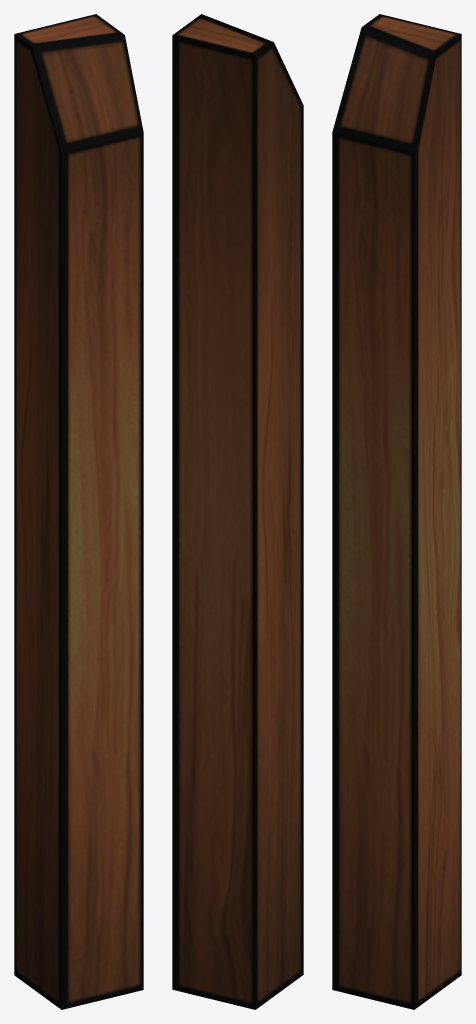
Rendered from Viga_01_Broken.FBX.
3 renders of one model, left to right at view 1: azimuth 30°, elevation 25°; view 2: azimuth 150°, elevation 25°; view 3: azimuth 330°, elevation 25°, orthographic.
Visible parts, largest first — view 1: Box001; view 2: Box001; view 3: Box001.
Boxes of the visible parts, <box> form: Box001: <box>14,14,143,1009</box>; Box001: <box>172,14,303,1009</box>; Box001: <box>332,14,461,1009</box>.
Size of the model in its own units: 5 by 54.87 by 5.
